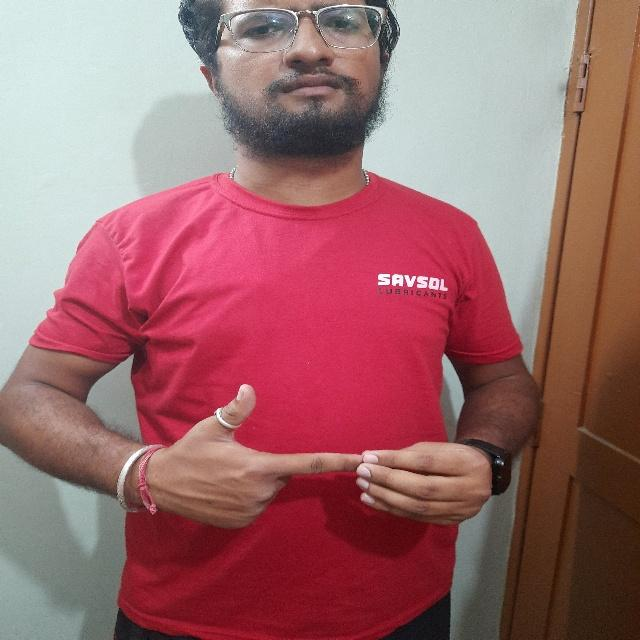Five Fathers: (139, 373, 501, 541)
